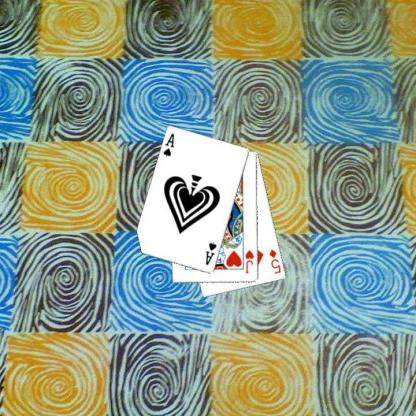5D: (267, 247, 282, 275)
AS: (160, 131, 176, 158), (203, 240, 218, 266)
JH: (244, 248, 256, 274)
